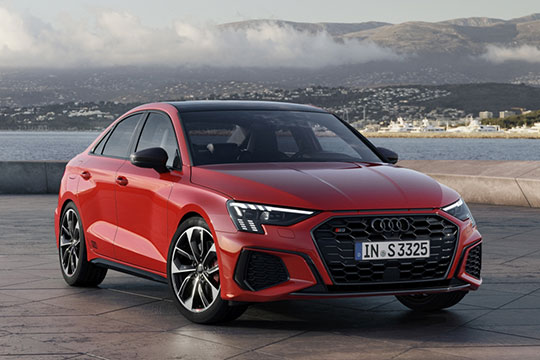car: (54, 99, 483, 326)
